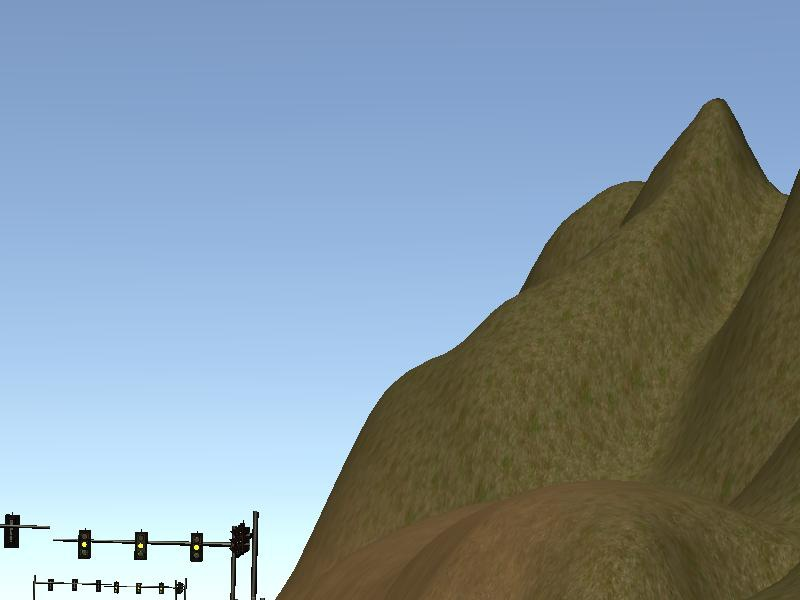yellow_light: (78, 531, 91, 561), (191, 533, 203, 563), (135, 532, 147, 558)
